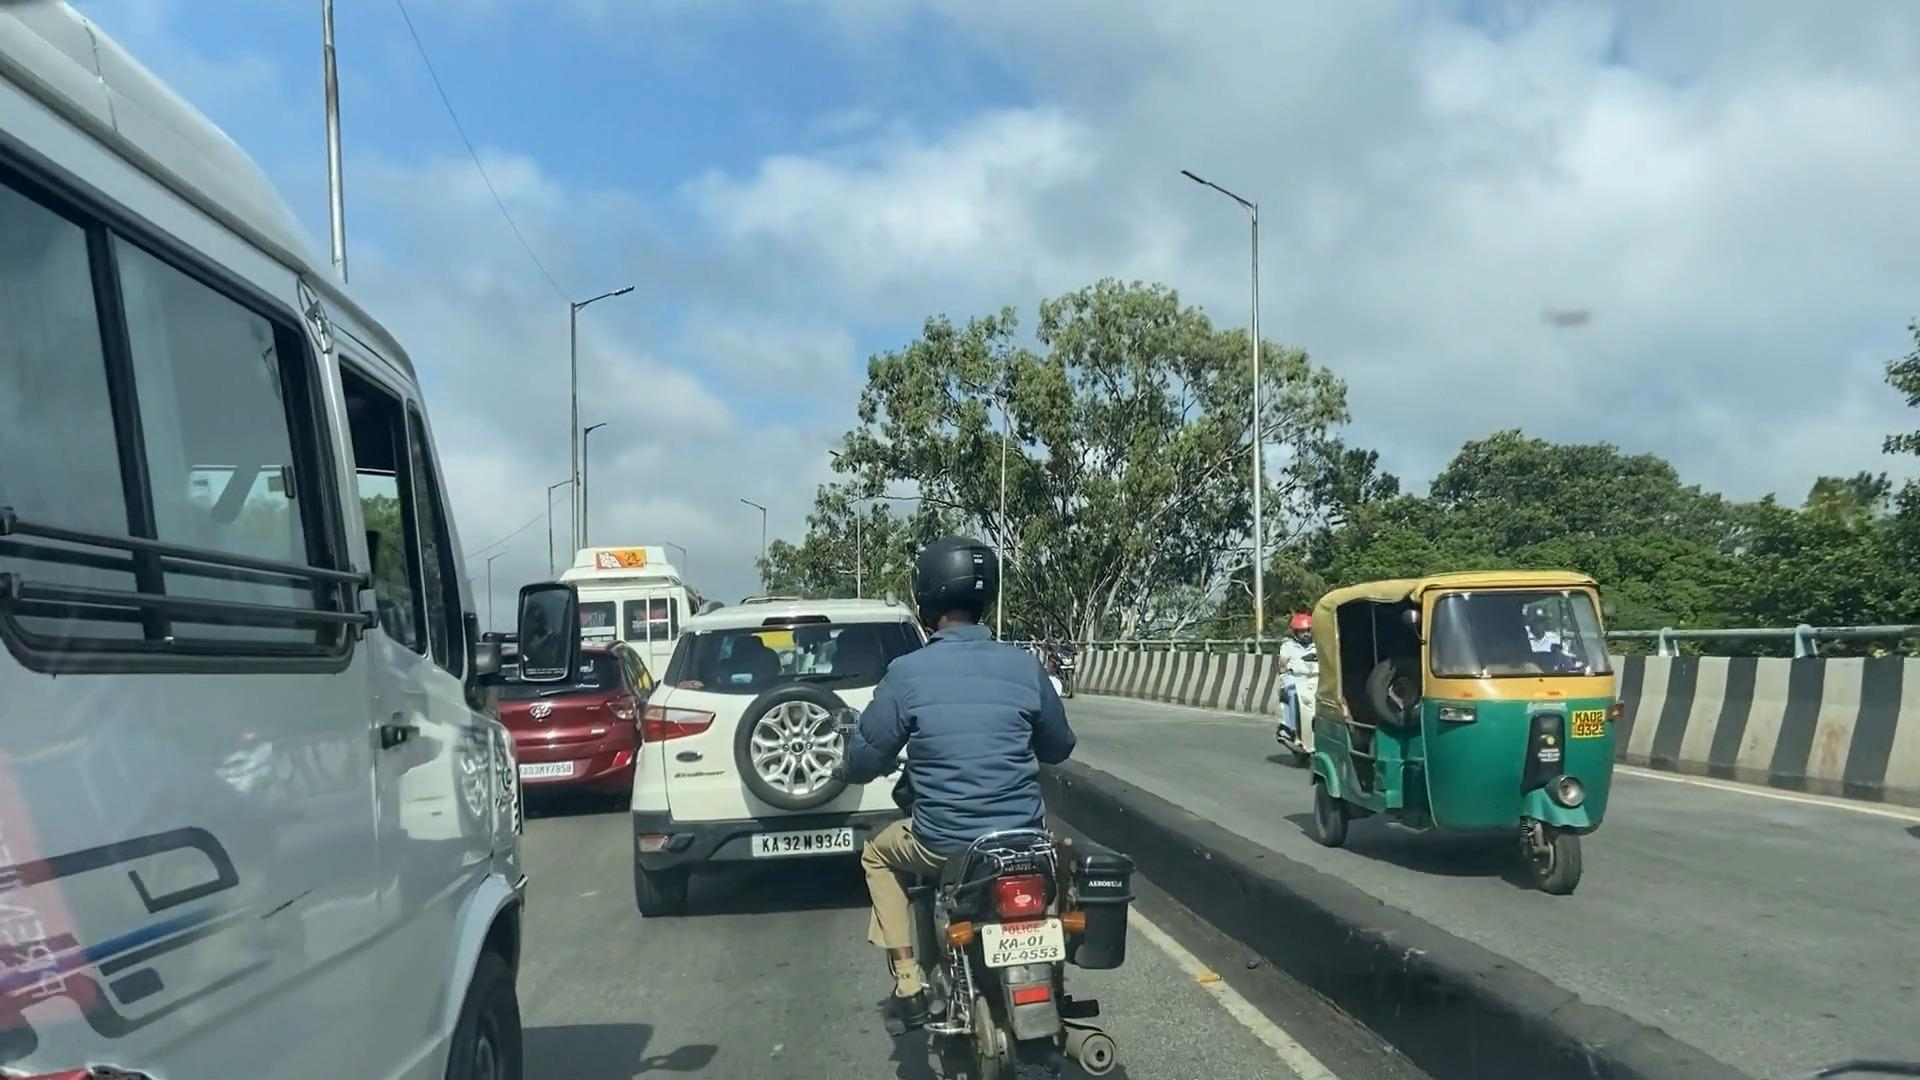LMV: (856, 568, 1121, 1073)
